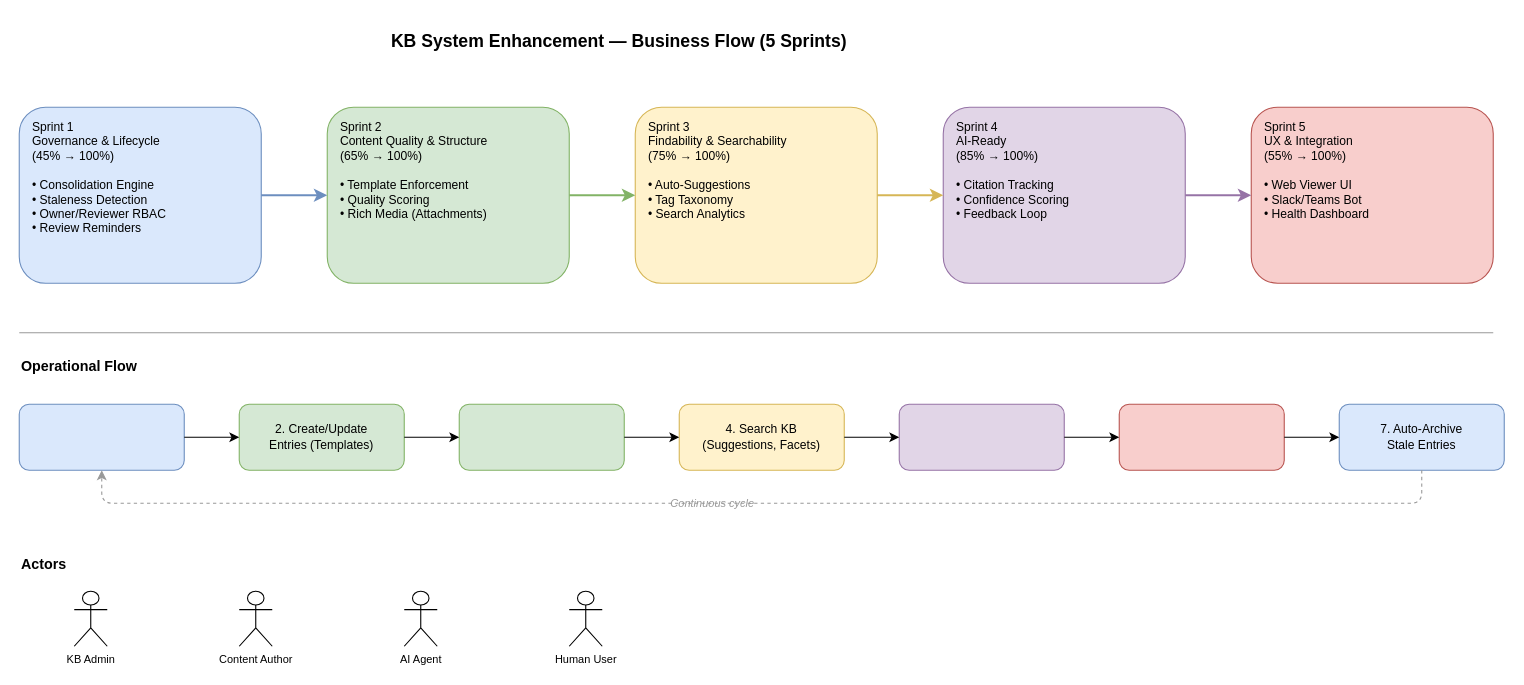
Image size: 1524x685. Some labels were removed from this diagram. The shapes that lost their labels are listed below. From the top down, each one's box as (x1, y1, x2, y2) in pixels, then its label:
(18, 403, 184, 470): 1. Configure Governance Rules
(458, 403, 624, 470): 3. Validate Quality & Score
(898, 403, 1064, 470): 5. Track Citations & Feedback
(1118, 403, 1284, 470): 6. Dashboard Health Metrics
